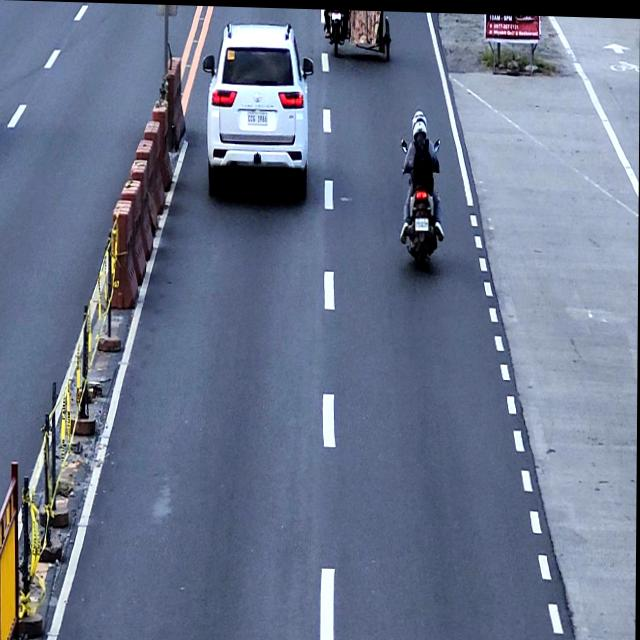Car: (201, 22, 315, 204)
License-Plate: (247, 110, 269, 124), (415, 215, 429, 228), (331, 11, 341, 19)
Motorcycle: (399, 131, 442, 264)
Tricycle: (327, 8, 392, 61)
